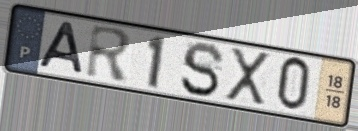0: (274, 54, 315, 117)
1: (145, 33, 168, 90)
A: (37, 20, 86, 77)
R: (84, 23, 135, 84)
S: (178, 40, 227, 100)
X: (225, 45, 273, 108)
